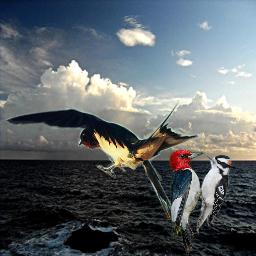Swallow: (2, 98, 235, 220)
Woodpecker: (167, 150, 211, 256), (196, 151, 234, 234)
